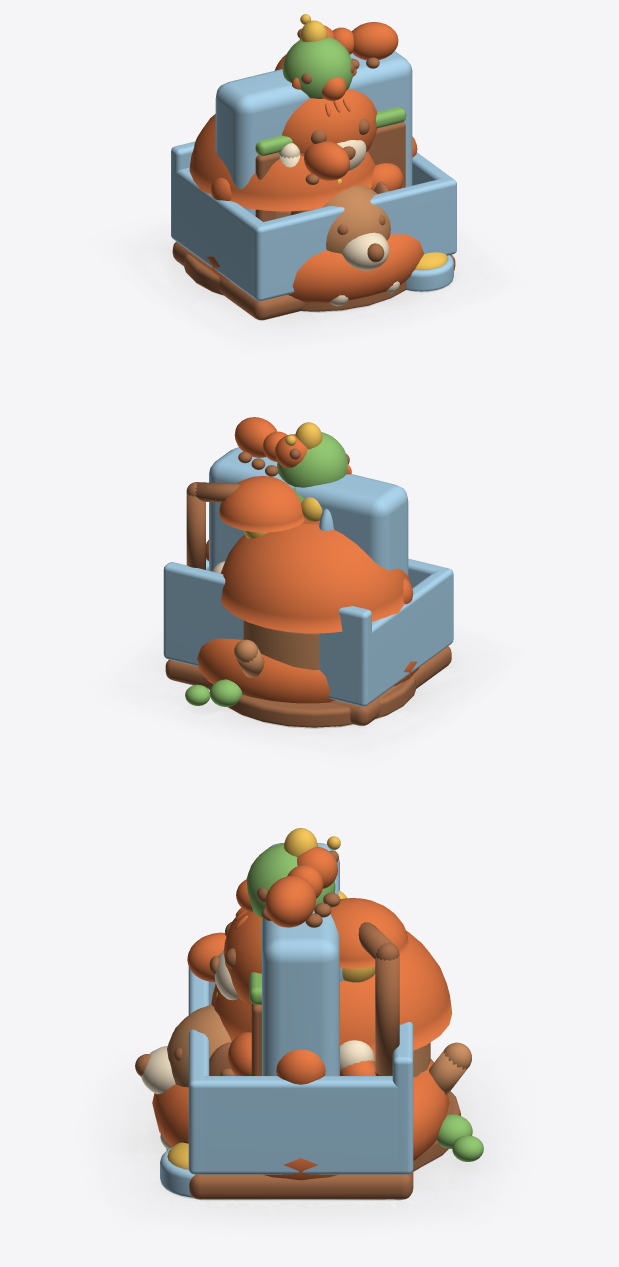
Rendered from interest_pet_v1_draco_webp.glb.
3 renders of one model, top to bottom at view 1: azimuth 30°, elevation 25°; view 2: azimuth 150°, elevation 25°; view 3: azimuth 270°, elevation 25°, orthographic. The views are drawn at different scales.
Parts seen in each view (by area): view 1: ant_frame, tank_front, tank_side_-1, house_roof, bed_rim, cat_head, parrot_head, shadow_cat_bed, dog_head, ant_soil, shadow_lizard_tank, tank_base (+12 smaller); view 2: house_roof, tank_back, ant_frame, tank_side_-1, bed_rim, lamp_shade, house_floor, shadow_lizard_tank, house_body, shadow_dog_house, tank_base, parrot_head (+10 smaller); view 3: tank_side_1, ant_frame, house_roof, tank_base, shadow_lizard_tank, shadow_cat_bed, bed_rim, shadow_dog_house, lamp_shade, tank_front, lamp_pole, tank_back (+20 smaller).
Part boxes in pixels (left/top/right/bottom): ant_frame: left=215, top=51, right=412, bottom=215; tank_front: left=252, top=177, right=456, bottom=301; tank_side_-1: left=171, top=168, right=267, bottom=300; house_roof: left=189, top=114, right=375, bottom=211; bed_rim: left=205, top=234, right=424, bottom=302; cat_head: left=282, top=89, right=377, bottom=153; parrot_head: left=282, top=36, right=353, bottom=98; shadow_cat_bed: left=162, top=241, right=465, bottom=330; dog_head: left=312, top=185, right=390, bottom=253; ant_soil: left=255, top=122, right=405, bottom=221; shadow_lizard_tank: left=144, top=241, right=461, bottom=317; tank_base: left=172, top=241, right=455, bottom=320; house_roof: left=220, top=523, right=409, bottom=633; tank_back: left=163, top=562, right=371, bottom=706; ant_frame: left=209, top=447, right=408, bottom=576; tank_side_-1: left=355, top=570, right=452, bottom=706; bed_rim: left=197, top=638, right=419, bottom=703; lamp_shade: left=219, top=476, right=304, bottom=532; house_floor: left=228, top=676, right=416, bottom=728; shadow_lizard_tank: left=144, top=649, right=484, bottom=741; house_body: left=243, top=620, right=319, bottom=670; shadow_dog_house: left=149, top=672, right=449, bottom=745; tank_base: left=165, top=646, right=451, bottom=725; parrot_head: left=277, top=432, right=348, bottom=487; tank_side_1: left=188, top=1076, right=411, bottom=1174; ant_frame: left=262, top=843, right=339, bottom=1075; house_roof: left=211, top=930, right=452, bottom=1060; tank_base: left=189, top=1169, right=413, bottom=1200; shadow_lizard_tank: left=131, top=1083, right=473, bottom=1222; shadow_cat_bed: left=122, top=1100, right=474, bottom=1211; bed_rim: left=152, top=1059, right=449, bottom=1180; shadow_dog_house: left=134, top=1070, right=498, bottom=1208; lamp_shade: left=330, top=898, right=408, bottom=968; tank_front: left=188, top=966, right=209, bottom=1174; lamp_pole: left=375, top=955, right=399, bottom=1075; tank_back: left=392, top=1022, right=413, bottom=1174.
Size of the model in its own units: 0.632 by 0.399 by 0.6834.
9 materials, 1 textured.
